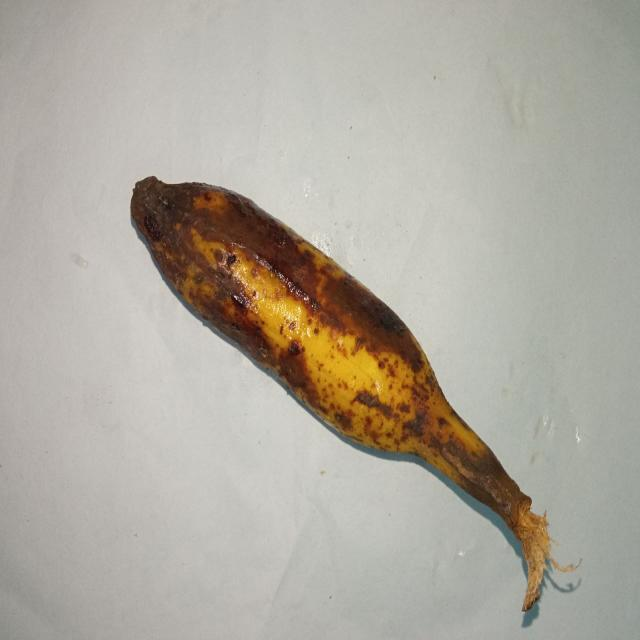rotten_banana: (130, 178, 527, 524)
